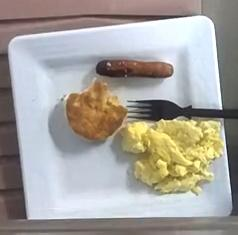biscuit: (66, 79, 127, 140)
sausage: (96, 60, 173, 77)
scrambled_eggs: (121, 118, 221, 193)
